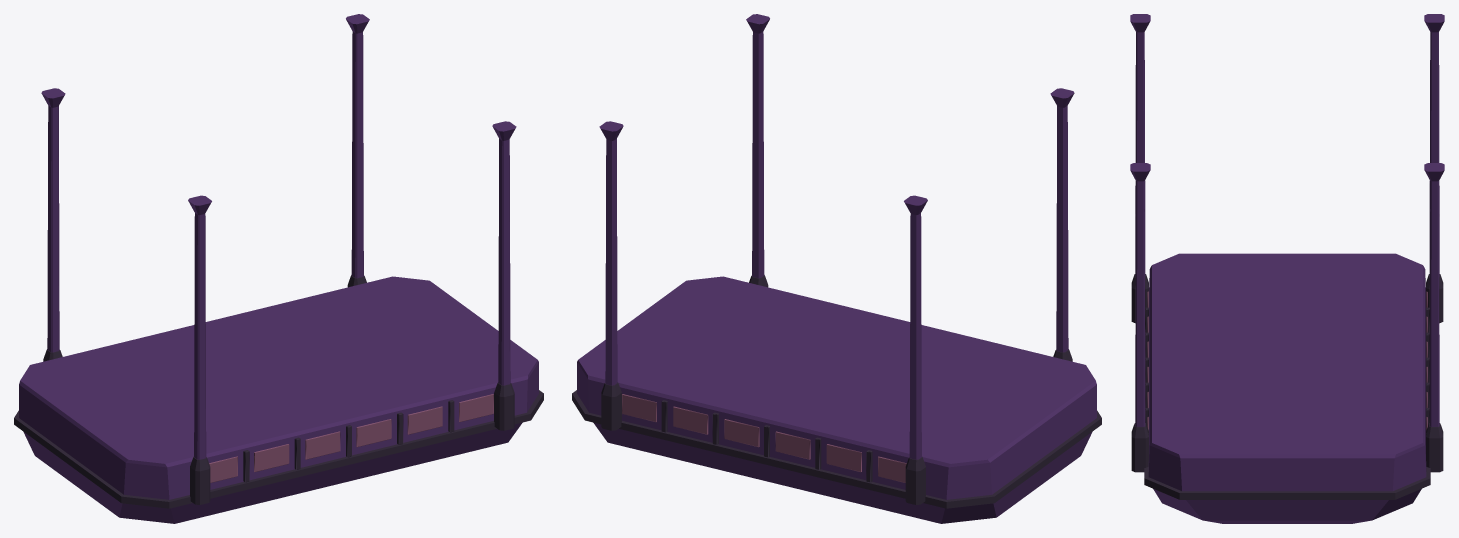
File: SM_SB_Kit_AlienPod.fbx
3 views of the same model, side by side, from view 1: azimuth 30°, elevation 25°; view 2: azimuth 150°, elevation 25°; view 3: azimuth 270°, elevation 25° (orthographic).
Parts seen in each view (by area): view 1: SM_SB_Kit_AlienPod; view 2: SM_SB_Kit_AlienPod; view 3: SM_SB_Kit_AlienPod.
Boxes of the visible parts, bbox=[...] form: SM_SB_Kit_AlienPod: bbox=[14, 14, 543, 523]; SM_SB_Kit_AlienPod: bbox=[572, 14, 1101, 523]; SM_SB_Kit_AlienPod: bbox=[1130, 14, 1444, 523].
Bounding box in the file's own units: 1444 × 928 × 1102.
